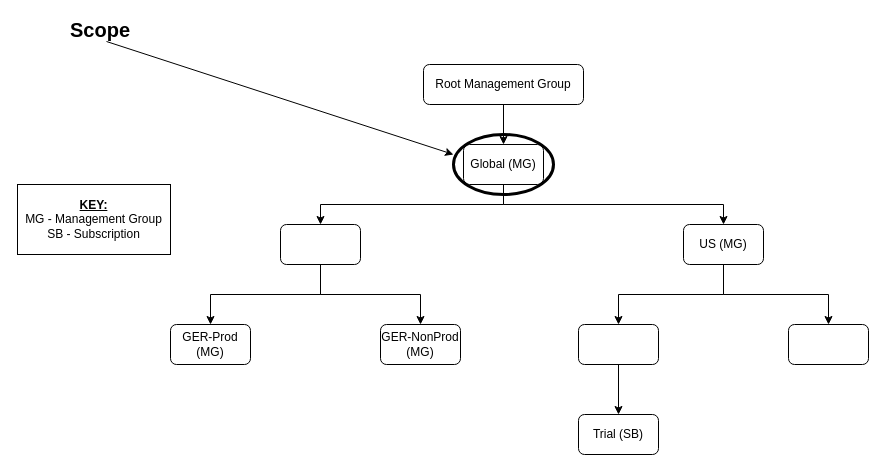
Some shapes in this 886 by 472 pixel diagram are drawn without their labels. The centre of each missing label's shape, as x and y in pixels:
GER (MG): the point at 320,244
US-NonProd (MG): the point at 828,344
US-Prod (MG): the point at 618,344
